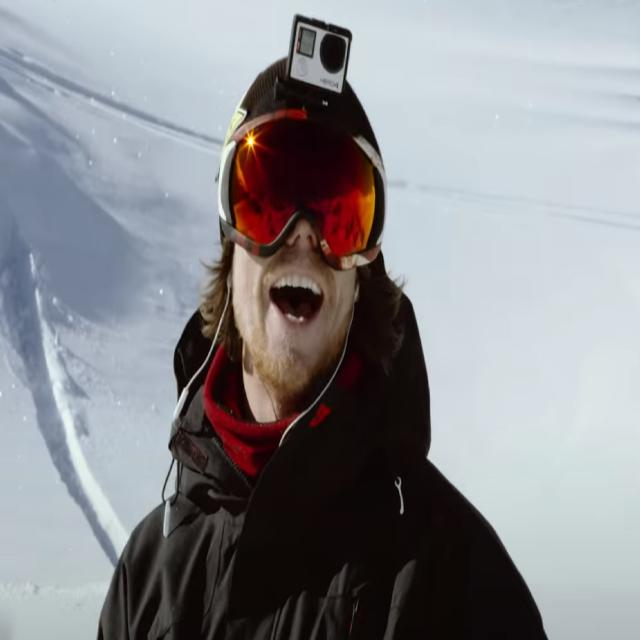hat: (223, 68, 380, 146)
